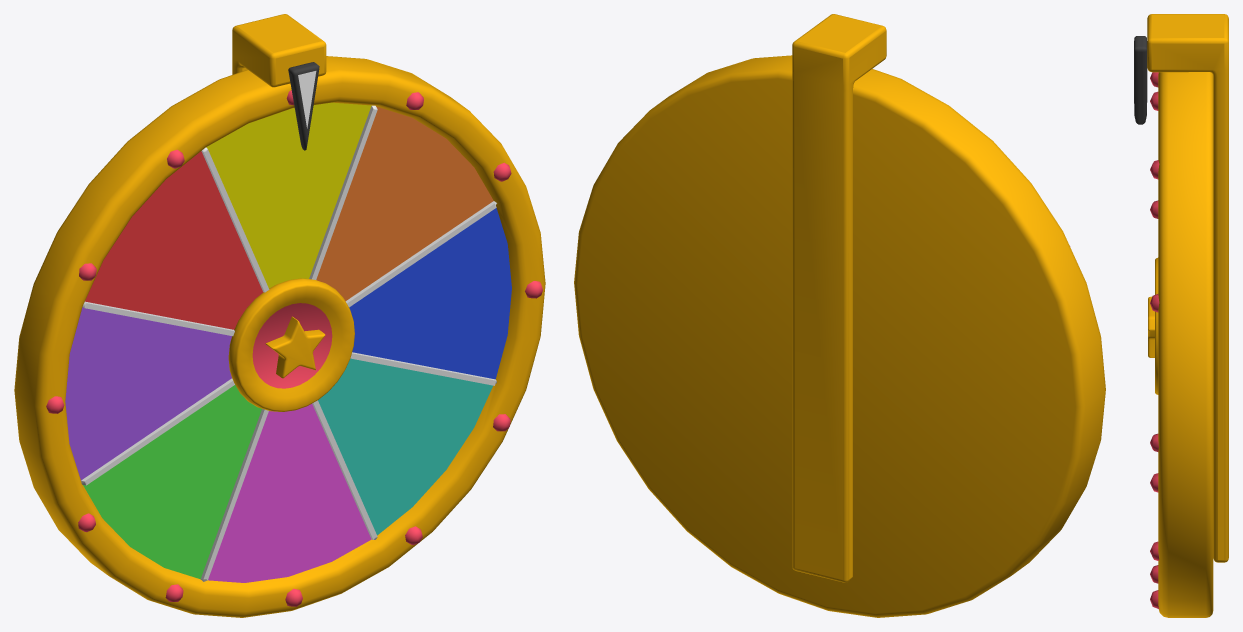
File: SpinningWheel_LP.fbx
3 views of the same model, side by side, from view 1: azimuth 30°, elevation 25°; view 2: azimuth 150°, elevation 25°; view 3: azimuth 270°, elevation 25° (orthographic).
Visible parts, largest first — view 1: Cylinder, Cube.017, Cube.020; view 2: Cylinder, Cube.017; view 3: Cylinder, Cube.017, Cube.020.
Boxes of the visible parts, left/top/right/bottom form: Cylinder: left=14, top=56, right=545, bottom=617; Cube.017: left=232, top=14, right=326, bottom=87; Cube.020: left=288, top=62, right=319, bottom=150; Cylinder: left=574, top=55, right=1105, bottom=617; Cube.017: left=792, top=14, right=886, bottom=582; Cylinder: left=1148, top=72, right=1213, bottom=617; Cube.017: left=1147, top=14, right=1228, bottom=562; Cube.020: left=1134, top=36, right=1147, bottom=124.
Size of the model in its own units: 129 by 138 by 20.98.
